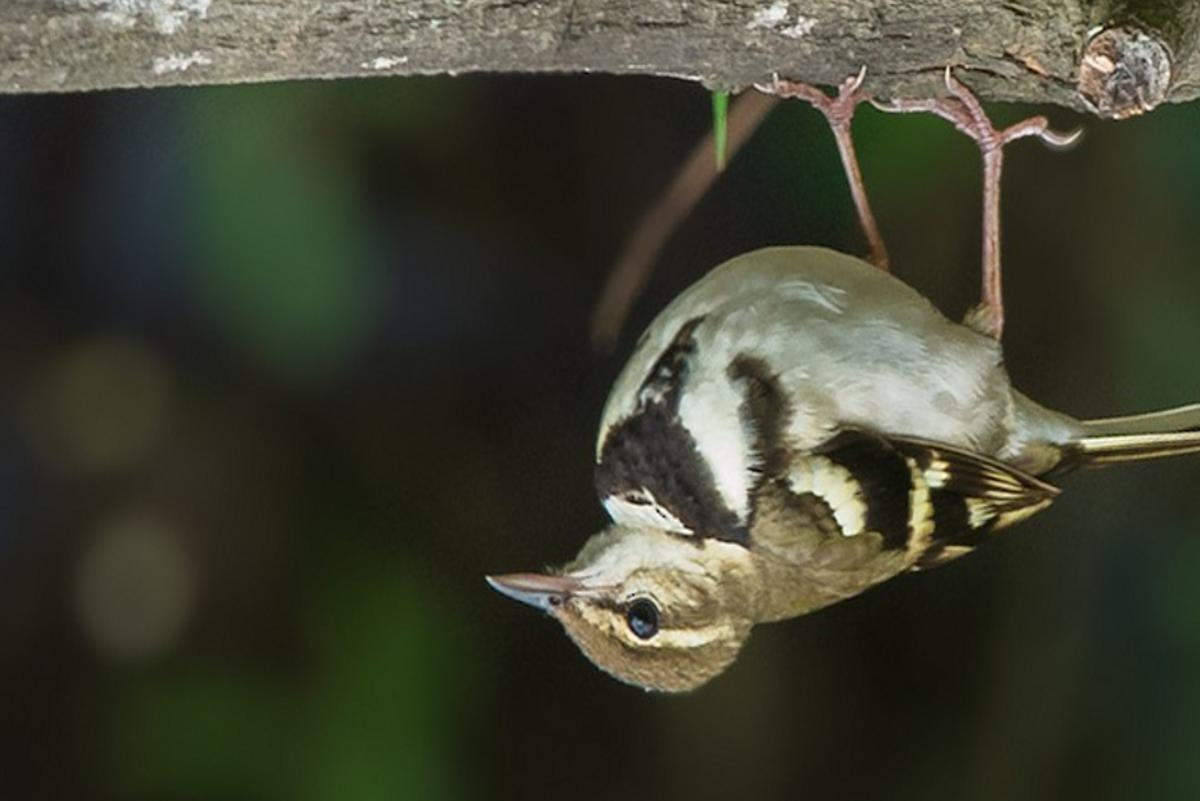wagtail: (517, 262, 1188, 694)
